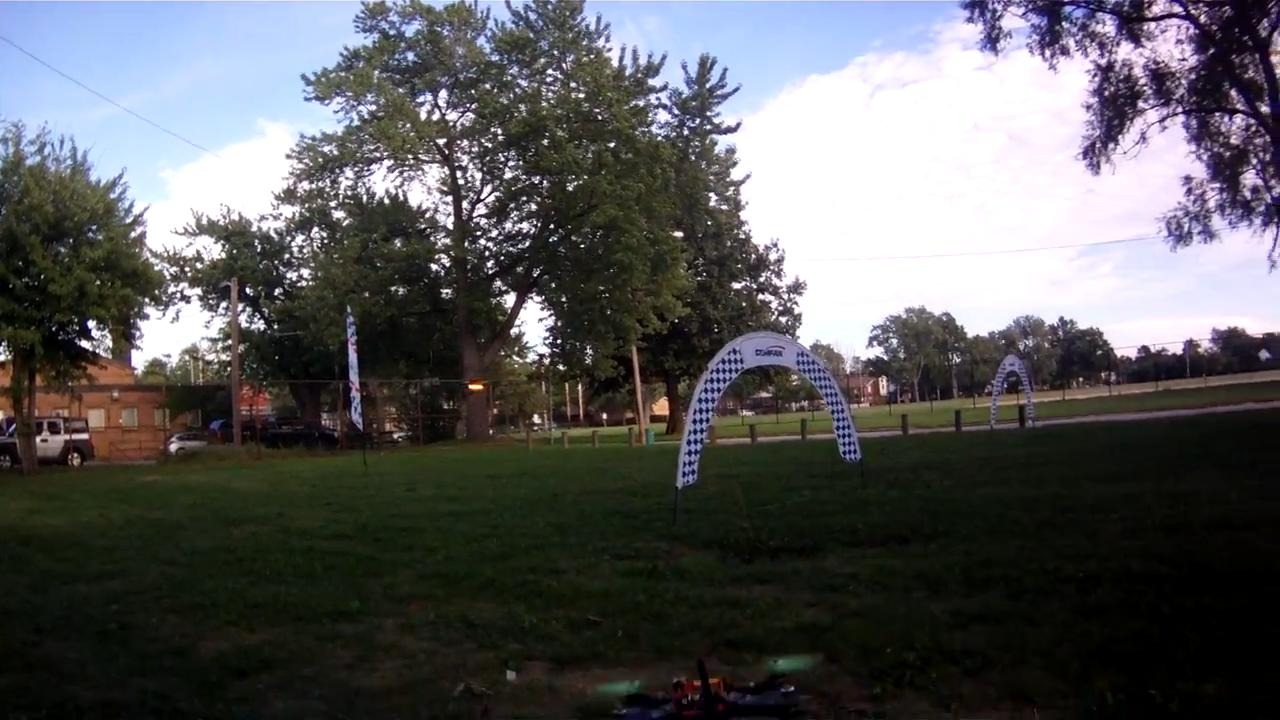gate: (672, 331, 862, 490)
